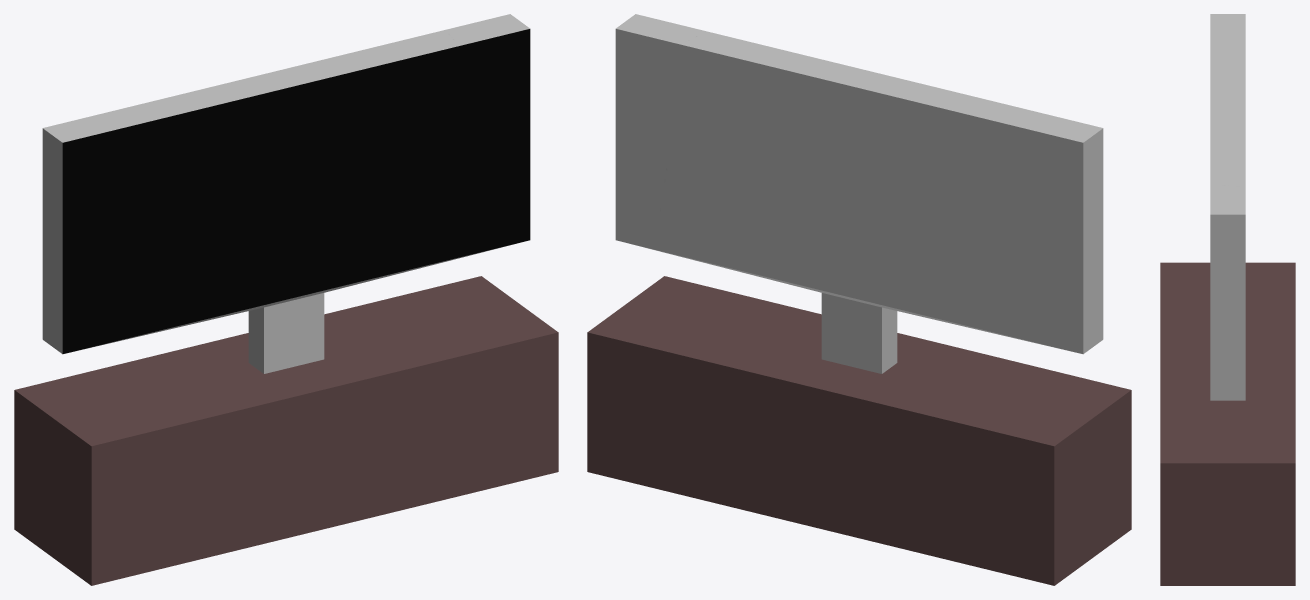
The picture shows the model from 3 angles, left to right: view 1: azimuth 30°, elevation 25°; view 2: azimuth 150°, elevation 25°; view 3: azimuth 270°, elevation 25°; orthographic projection. The views are drawn at different scales.
Visible parts, largest first — view 1: pCube1; view 2: pCube1; view 3: pCube1.
Boxes of the visible parts, box(x1,y1,x2,y2) form: pCube1: box(14, 14, 558, 585); pCube1: box(587, 14, 1131, 585); pCube1: box(1160, 14, 1295, 585).
Bounding box in the file's own units: 8.76 × 7.56 × 2.5.
Materials: 1 (1 with a texture image).
